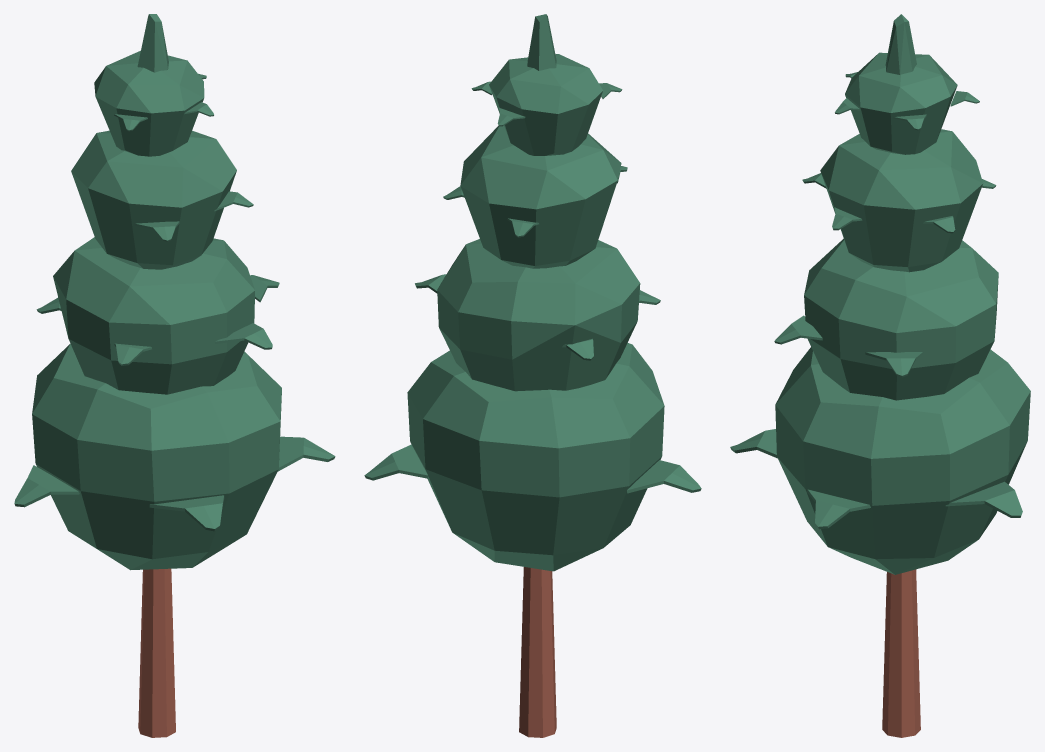
The model's file is tree_16.fbx.
3 views of the same model, side by side, from view 1: azimuth 30°, elevation 25°; view 2: azimuth 150°, elevation 25°; view 3: azimuth 270°, elevation 25° (orthographic).
Parts seen in each view (by area): view 1: Cylinder.043; view 2: Cylinder.043; view 3: Cylinder.043.
Boxes of the visible parts, bbox=[...] form: Cylinder.043: bbox=[14, 14, 335, 737]; Cylinder.043: bbox=[364, 14, 701, 737]; Cylinder.043: bbox=[730, 14, 1030, 737].
Bounding box in the file's own units: 285 × 675 × 258.
